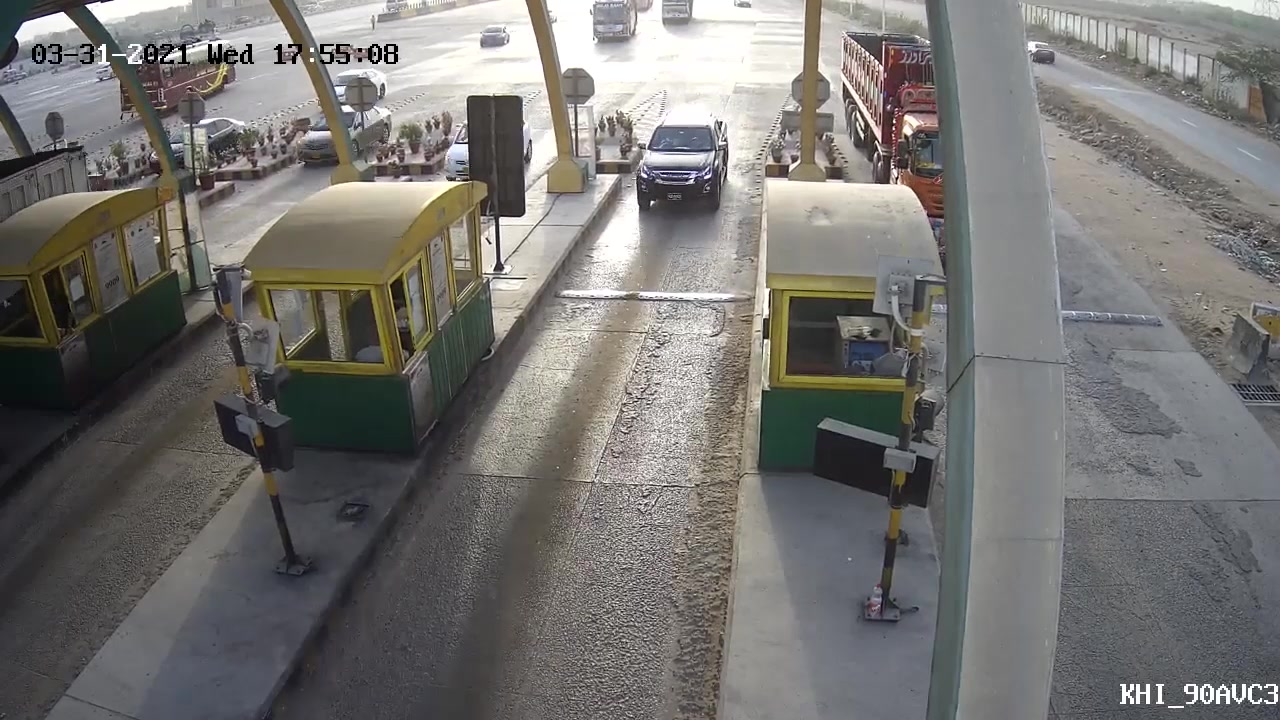F1: (629, 114, 736, 208)
